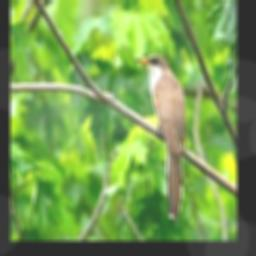Cuckoo: (135, 54, 186, 219)
